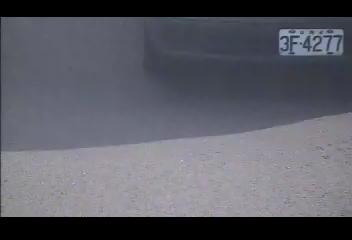plate: (277, 26, 346, 58)
